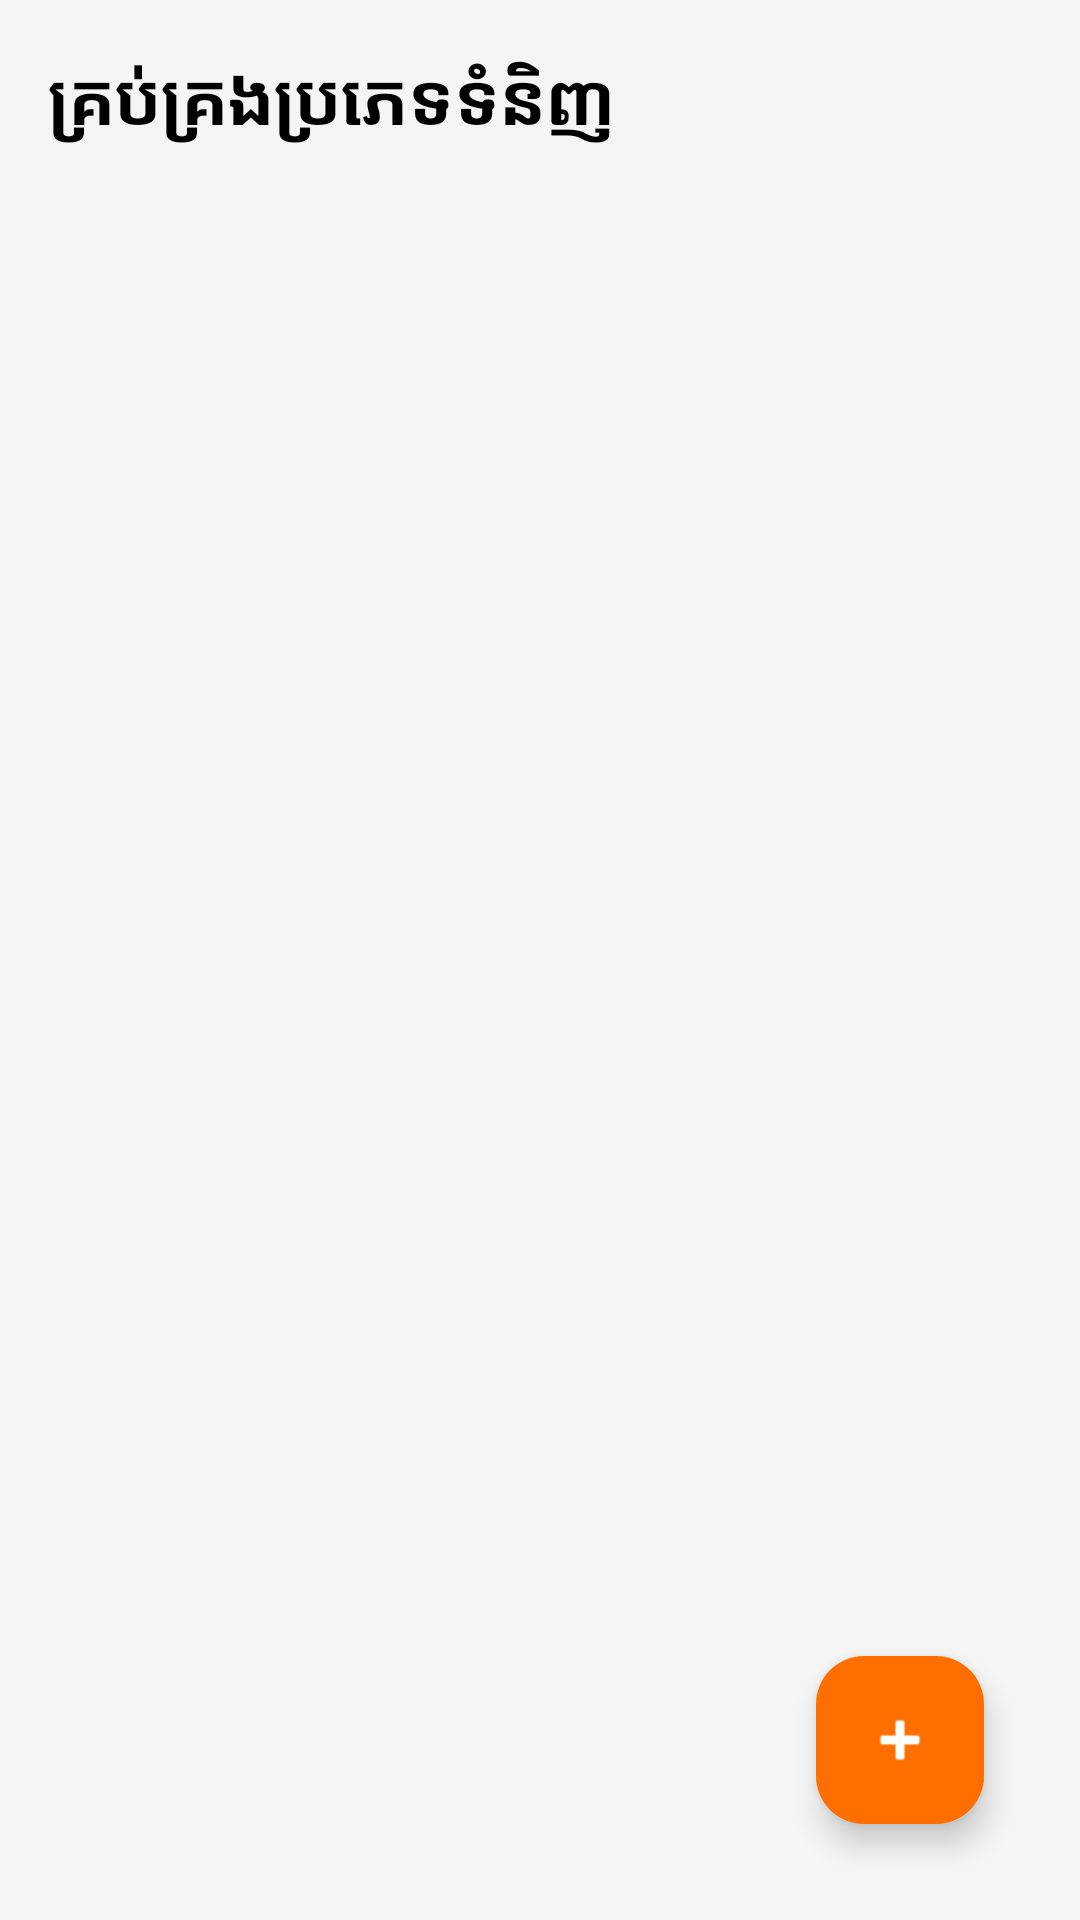

Point at icon controls on the screen. Image size 1080w x 1920h, points as [x,y].
Add New Category: [900,1740]
